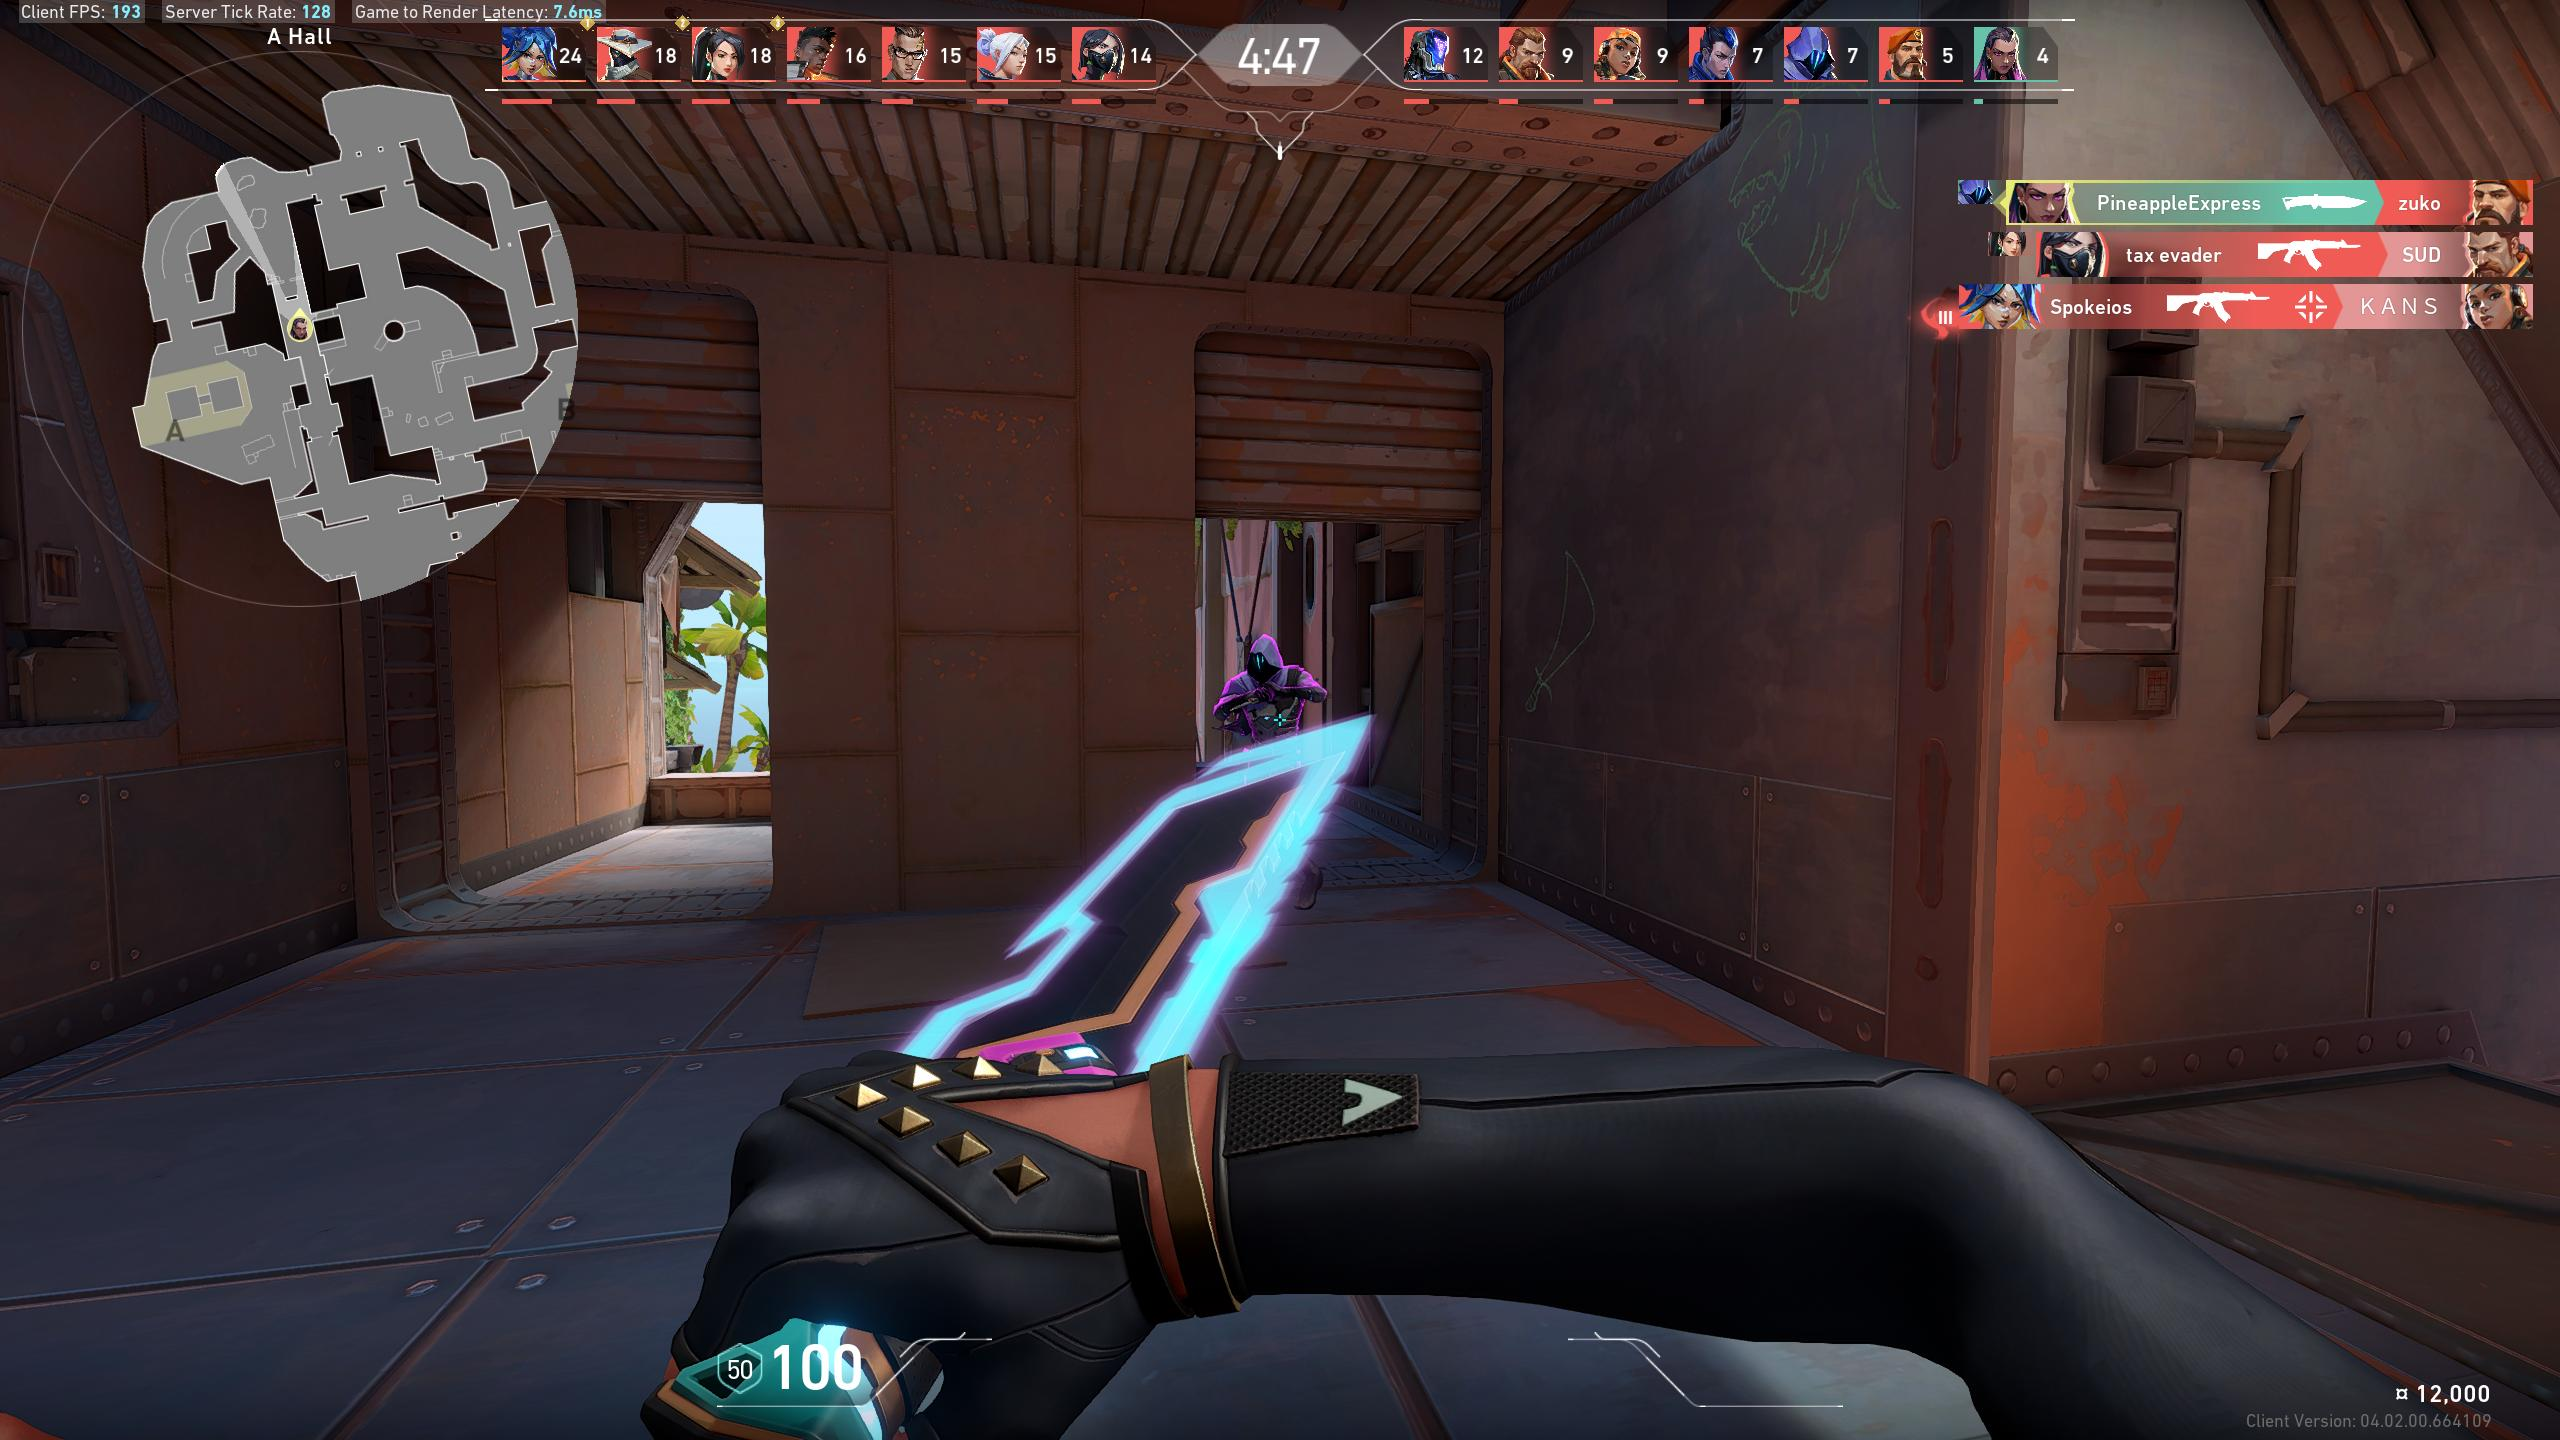enemyBody: (1248, 682, 1287, 737)
enemyHead: (1252, 645, 1276, 675)
